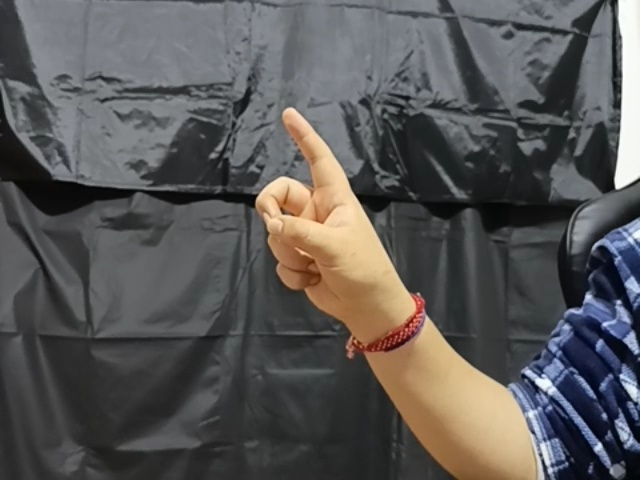D: (252, 103, 401, 327)
